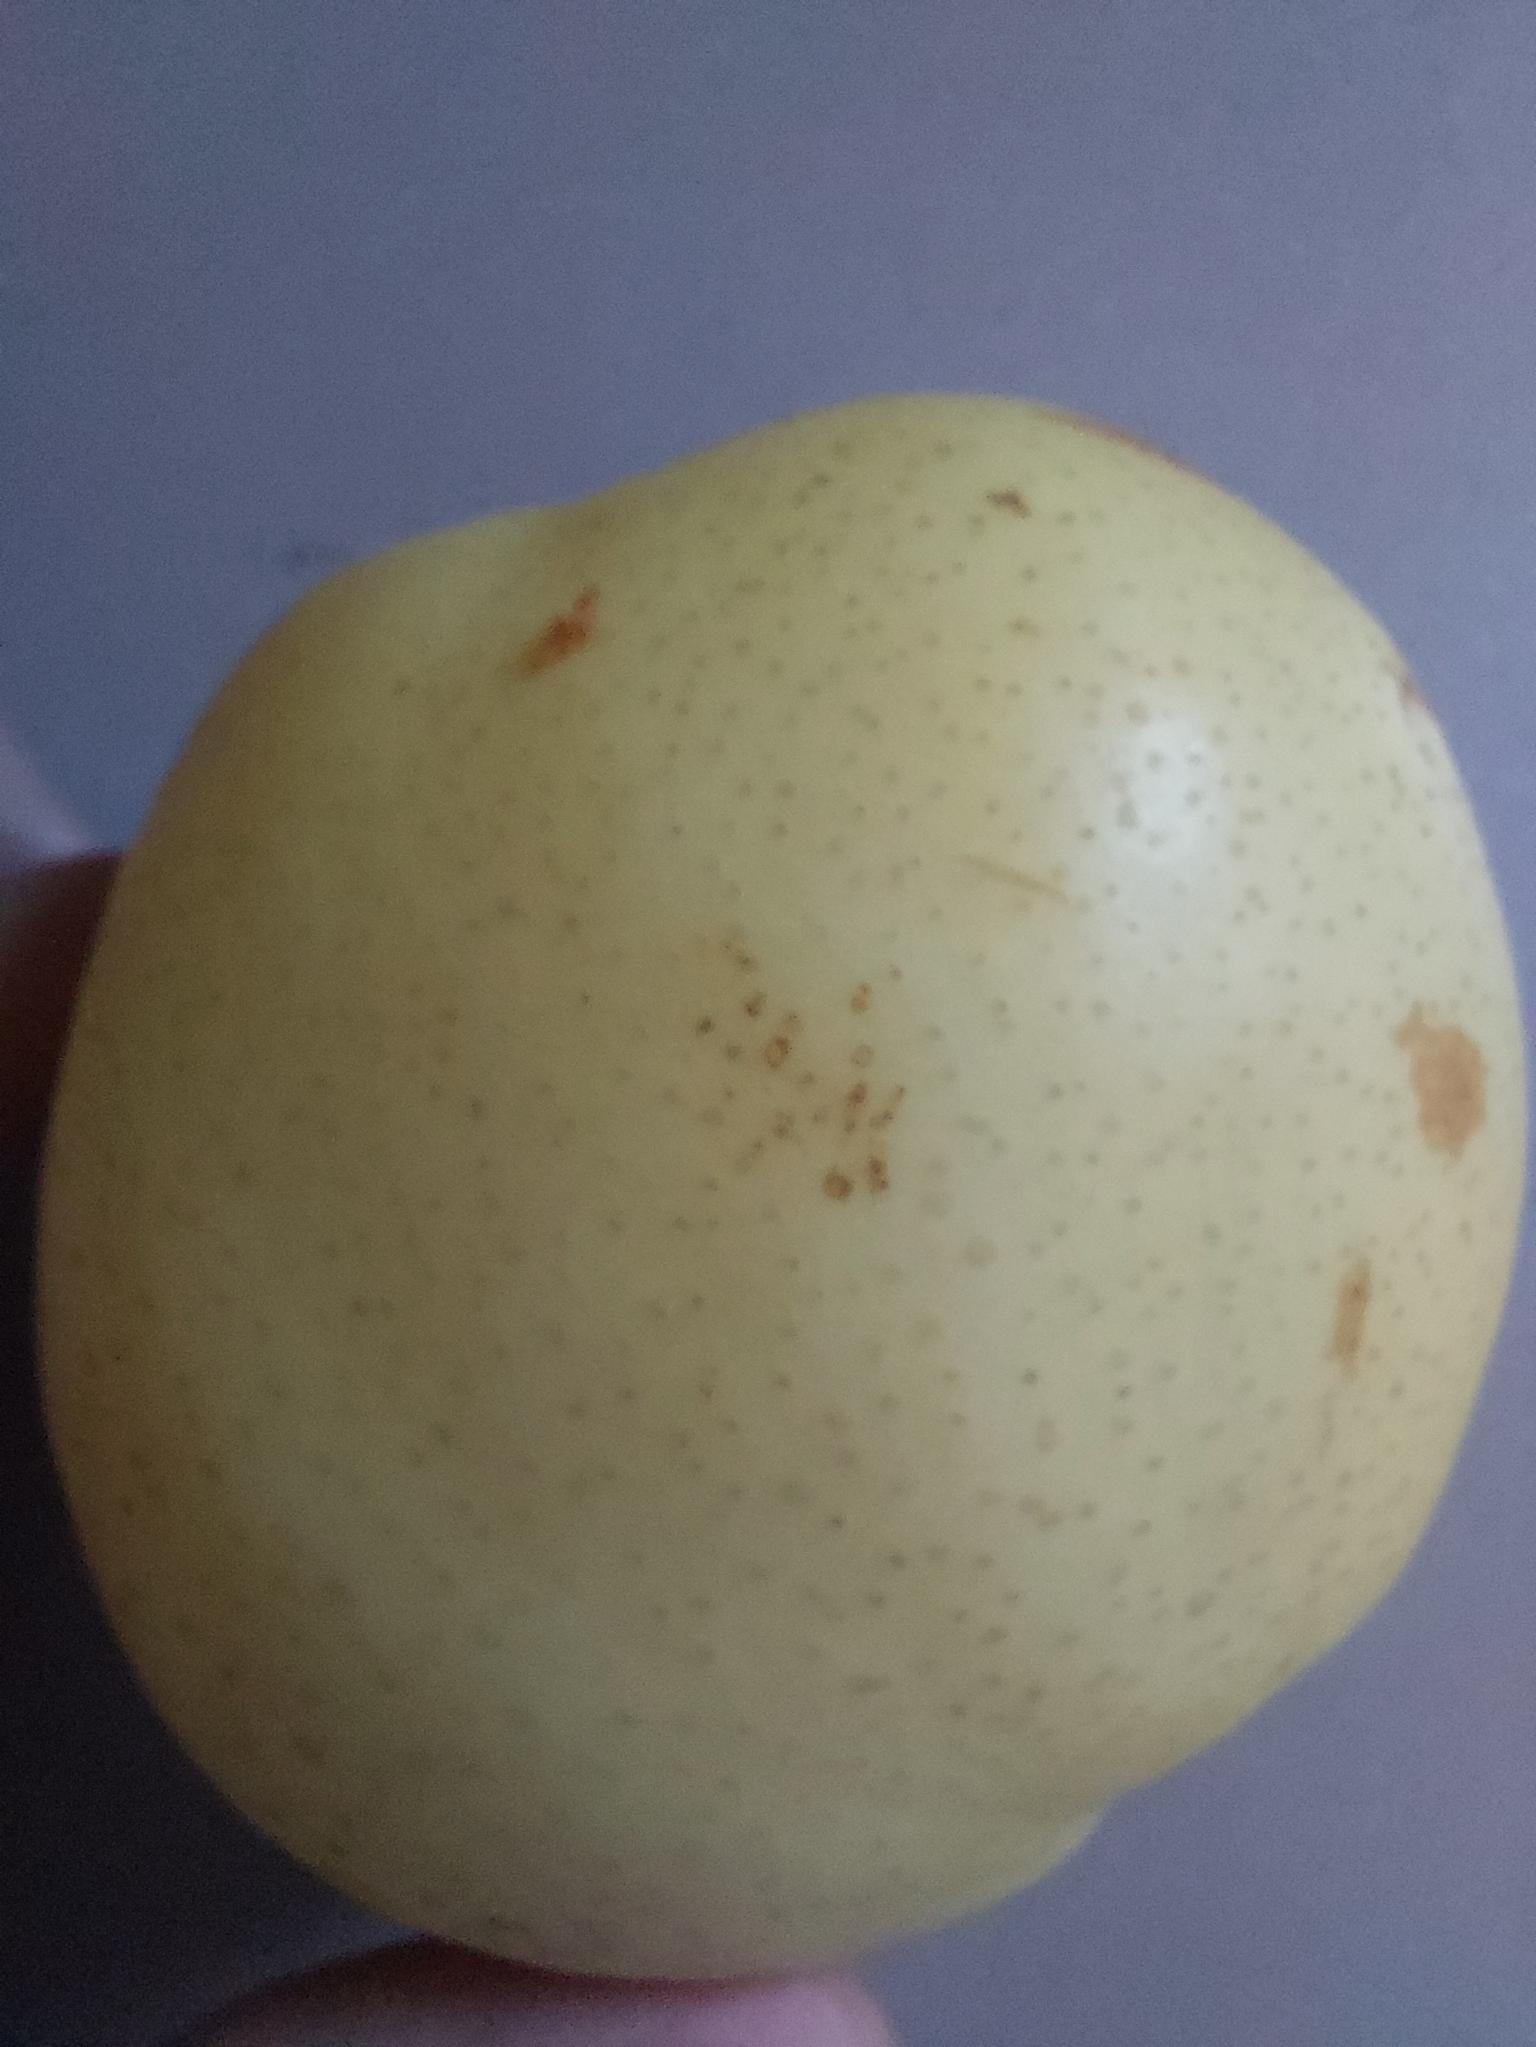Good Pear: (35, 395, 1520, 1971)
